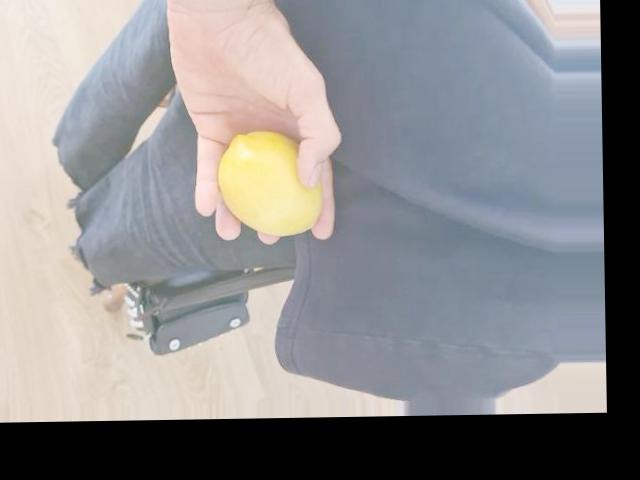lemon: (222, 126, 319, 238)
